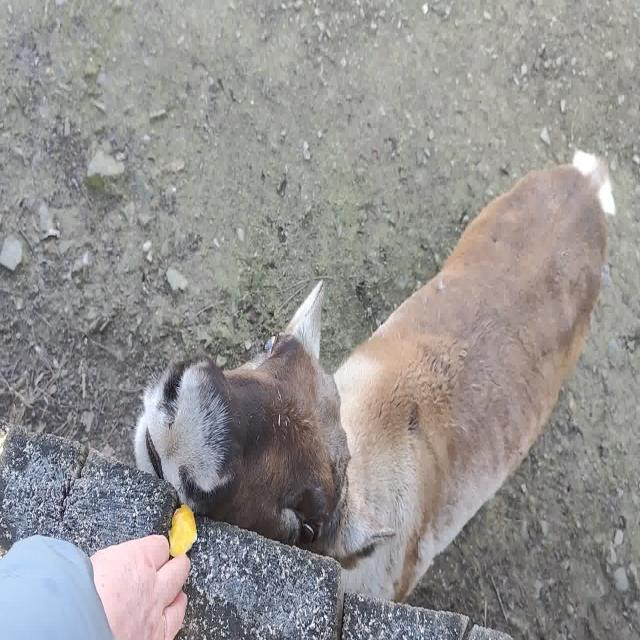deer: (134, 148, 616, 600)
